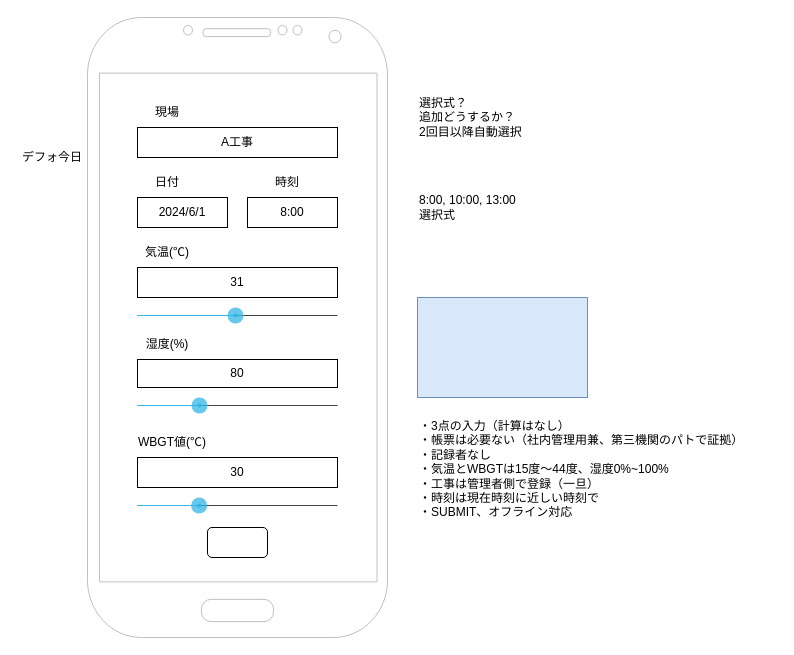
Some shapes in this 794 by 655 pixel diagram are drawn without their labels. The centre of each missing label's shape, as x and y in pixels:
・アプリ化 PWA + オフライン対応 ・DB Firebase: (502,347)
送信: (237,542)
